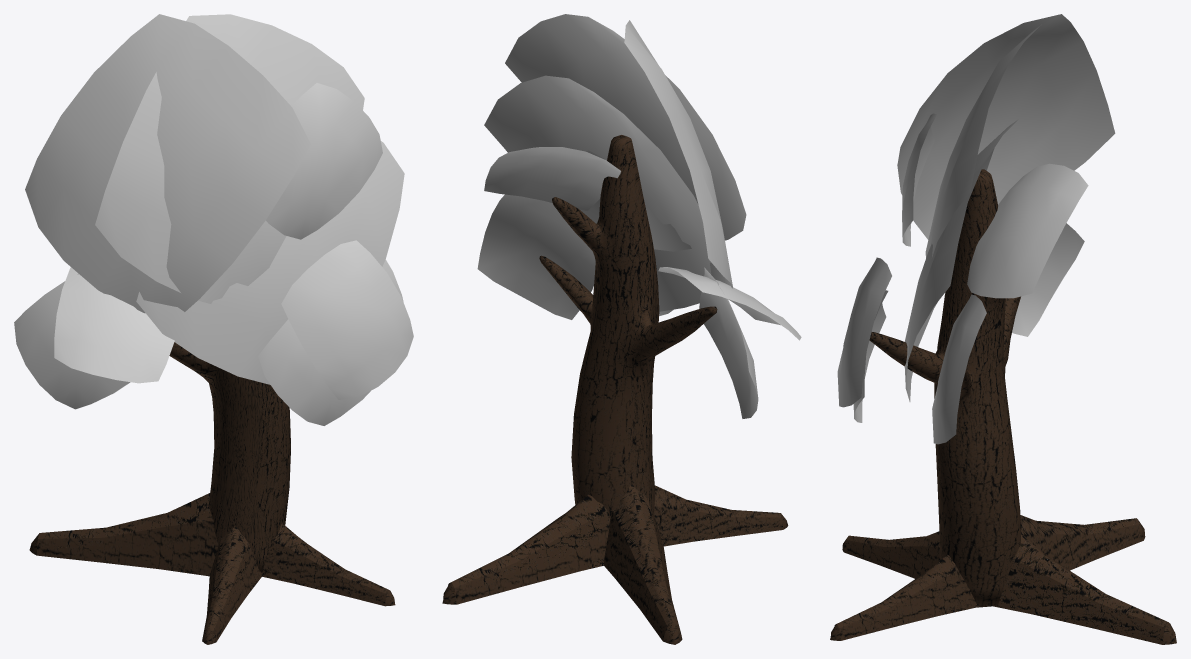
Rendered from littletree4fbx.fbx.
3 renders of one model, left to right at view 1: azimuth 30°, elevation 25°; view 2: azimuth 150°, elevation 25°; view 3: azimuth 270°, elevation 25°, orthographic. The views are drawn at different scales.
Parts seen in each view (by area): view 1: Plane007, Plane001, Plane008, Plane003, Group26301, Plane006, Plane002, Box004, Plane010, Plane009, Box002, Box001; view 2: Group26301, Plane008, Plane001, Plane004, Box003, Box004, Plane005, Plane007, Box001, Plane010, Plane002; view 3: Group26301, Plane007, Plane005, Box003, Box002, Box004, Plane001, Plane008, Plane003, Plane004, Box001, Plane010 (+2 smaller).
Part boxes in pixels (x1=…): Plane007: x1=25, y1=14, x2=310, y2=313; Plane001: x1=95, y1=14, x2=364, y2=303; Plane008: x1=136, y1=141, x2=404, y2=384; Plane003: x1=281, y1=240, x2=413, y2=399; Group26301: x1=169, y1=342, x2=290, y2=572; Plane006: x1=266, y1=83, x2=382, y2=239; Plane002: x1=54, y1=267, x2=174, y2=383; Box004: x1=29, y1=493, x2=218, y2=576; Plane010: x1=14, y1=273, x2=130, y2=409; Plane009: x1=258, y1=319, x2=370, y2=425; Box002: x1=262, y1=523, x2=395, y2=606; Box001: x1=202, y1=526, x2=262, y2=644; Group26301: x1=539, y1=135, x2=717, y2=516; Plane008: x1=484, y1=75, x2=715, y2=311; Plane001: x1=505, y1=14, x2=746, y2=251; Plane004: x1=477, y1=194, x2=595, y2=319; Box003: x1=442, y1=494, x2=610, y2=604; Box004: x1=604, y1=485, x2=682, y2=644; Plane005: x1=484, y1=147, x2=620, y2=211; Plane007: x1=624, y1=20, x2=732, y2=288; Box001: x1=654, y1=485, x2=788, y2=546; Plane010: x1=699, y1=267, x2=758, y2=418; Plane002: x1=658, y1=267, x2=801, y2=340; Group26301: x1=869, y1=169, x2=1021, y2=607; Plane007: x1=897, y1=14, x2=1115, y2=239; Plane005: x1=967, y1=163, x2=1088, y2=298; Box003: x1=993, y1=534, x2=1176, y2=644; Box002: x1=830, y1=554, x2=979, y2=640; Box004: x1=1020, y1=515, x2=1145, y2=570; Plane001: x1=925, y1=24, x2=1041, y2=257; Plane008: x1=904, y1=119, x2=1018, y2=401; Plane003: x1=837, y1=257, x2=891, y2=407; Plane004: x1=932, y1=294, x2=986, y2=444; Box001: x1=842, y1=531, x2=940, y2=578; Plane010: x1=1012, y1=223, x2=1084, y2=336.
Bounding box in the file's own units: 185 × 287 × 160.
